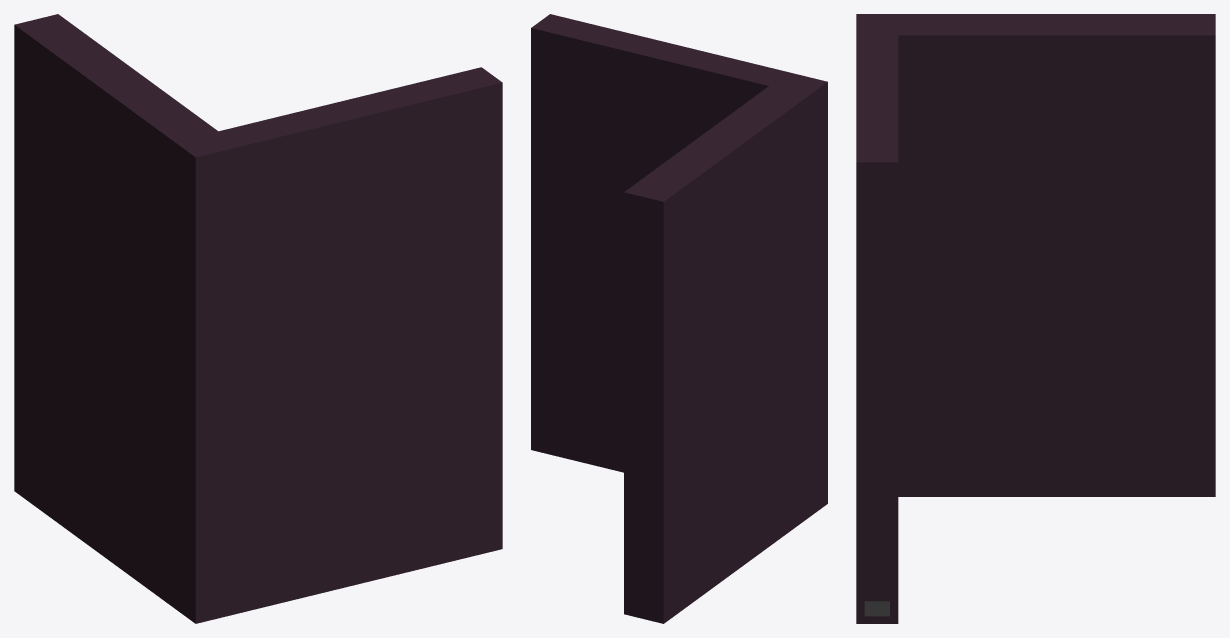
File: Chanks-2.obj
3 views of the same model, side by side, from view 1: azimuth 30°, elevation 25°; view 2: azimuth 150°, elevation 25°; view 3: azimuth 270°, elevation 25° (orthographic). The views are drawn at different scales.
Size of the model in its own units: 4.2 by 6.1 by 4.3.
1 material, 1 textured.
